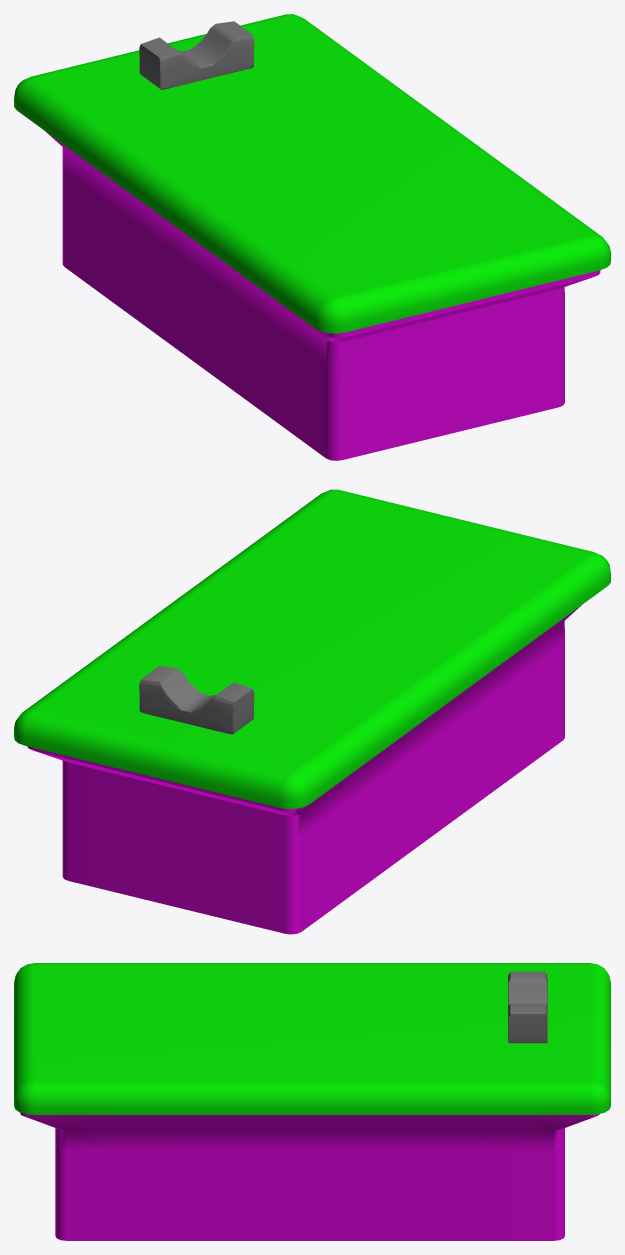
File: operatingTable_01.fbx
3 renders of one model, top to bottom at view 1: azimuth 30°, elevation 25°; view 2: azimuth 150°, elevation 25°; view 3: azimuth 270°, elevation 25°, orthographic. The views are drawn at different scales.
Parts seen in each view (by area): view 1: table_03; view 2: table_03; view 3: table_03.
Boxes of the visible parts, x1=… form: table_03: x1=14, y1=14, x2=610, y2=460; table_03: x1=14, y1=489, x2=610, y2=934; table_03: x1=14, y1=963, x2=610, y2=1240.
Size of the model in its own units: 131 by 89.81 by 248.
